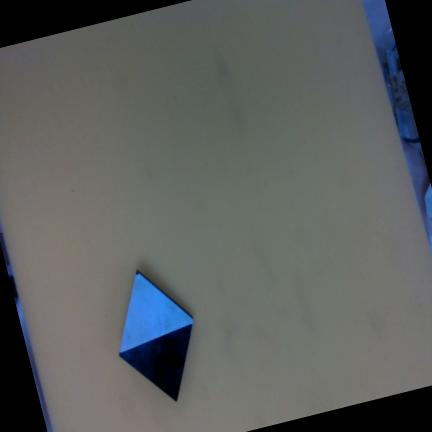tile: (109, 268, 202, 402)
